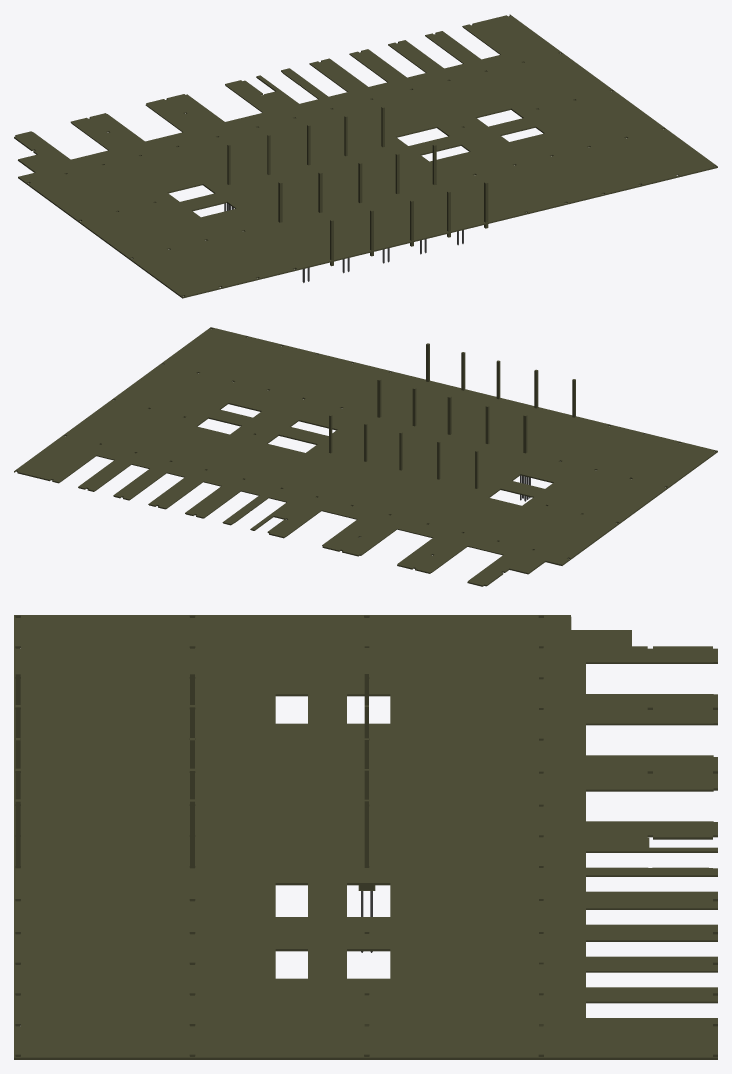
File: GCC-AAV-13220-30.nwd(5).fbx
3 renders of one model, top to bottom at view 1: azimuth 30°, elevation 25°; view 2: azimuth 150°, elevation 25°; view 3: azimuth 270°, elevation 25°, orthographic. The views are drawn at different scales.
Visible parts, largest first — view 1: PANEL 1 of SBFRAMEWORK /13220-BD-001/CI/KJ4/FS/FS_025, PANEL 1 of SBFRAMEWORK /13220-BD-001/CI/KJ4/FS/FS_027, PANEL 2 of SBFRAMEWORK /13220-BD-001/CI/KJ4/FS/FS_033, PANEL 1 of SBFRAMEWORK /13220-BD-001/CI/KJ4/FS/FS_047; view 2: PANEL 1 of SBFRAMEWORK /13220-BD-001/CI/KJ4/FS/FS_025, PANEL 1 of SBFRAMEWORK /13220-BD-001/CI/KJ4/FS/FS_027, PANEL 2 of SBFRAMEWORK /13220-BD-001/CI/KJ4/FS/FS_033; view 3: PANEL 1 of SBFRAMEWORK /13220-BD-001/CI/KJ4/FS/FS_025, PANEL 1 of SBFRAMEWORK /13220-BD-001/CI/KJ4/FS/FS_027, PANEL 2 of SBFRAMEWORK /13220-BD-001/CI/KJ4/FS/FS_033, PANEL 1 of SBFRAMEWORK /13220-BD-001/CI/KJ4/FS/FS_047, PANEL 1 of SBFRAMEWORK /13220-BD-001/CI/KJ4/FS/FS_059, PANEL 1 of SBFRAMEWORK /13220-BD-001/CI/KJ4/FS/FS_038.
Part boxes in pixels (x1=…): PANEL 1 of SBFRAMEWORK /13220-BD-001/CI/KJ4/FS/FS_025: x1=14, y1=14, x2=717, y2=297; PANEL 1 of SBFRAMEWORK /13220-BD-001/CI/KJ4/FS/FS_027: x1=14, y1=53, x2=717, y2=298; PANEL 2 of SBFRAMEWORK /13220-BD-001/CI/KJ4/FS/FS_033: x1=242, y1=164, x2=294, y2=183; PANEL 1 of SBFRAMEWORK /13220-BD-001/CI/KJ4/FS/FS_047: x1=321, y1=146, x2=369, y2=164; PANEL 1 of SBFRAMEWORK /13220-BD-001/CI/KJ4/FS/FS_025: x1=14, y1=327, x2=717, y2=586; PANEL 1 of SBFRAMEWORK /13220-BD-001/CI/KJ4/FS/FS_027: x1=14, y1=328, x2=717, y2=586; PANEL 2 of SBFRAMEWORK /13220-BD-001/CI/KJ4/FS/FS_033: x1=413, y1=470, x2=463, y2=488; PANEL 1 of SBFRAMEWORK /13220-BD-001/CI/KJ4/FS/FS_025: x1=14, y1=615, x2=717, y2=1059; PANEL 1 of SBFRAMEWORK /13220-BD-001/CI/KJ4/FS/FS_027: x1=14, y1=617, x2=717, y2=1059; PANEL 2 of SBFRAMEWORK /13220-BD-001/CI/KJ4/FS/FS_033: x1=347, y1=755, x2=390, y2=789; PANEL 1 of SBFRAMEWORK /13220-BD-001/CI/KJ4/FS/FS_047: x1=347, y1=821, x2=390, y2=850; PANEL 1 of SBFRAMEWORK /13220-BD-001/CI/KJ4/FS/FS_059: x1=275, y1=755, x2=307, y2=789; PANEL 1 of SBFRAMEWORK /13220-BD-001/CI/KJ4/FS/FS_038: x1=275, y1=821, x2=307, y2=850.
Size of the model in its own units: 5673 by 900 by 3815.
